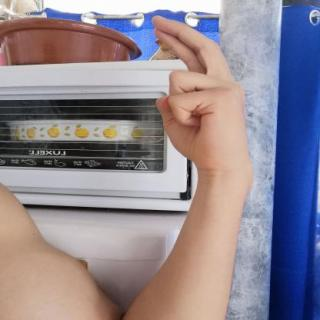ZAY: (140, 11, 258, 177)
